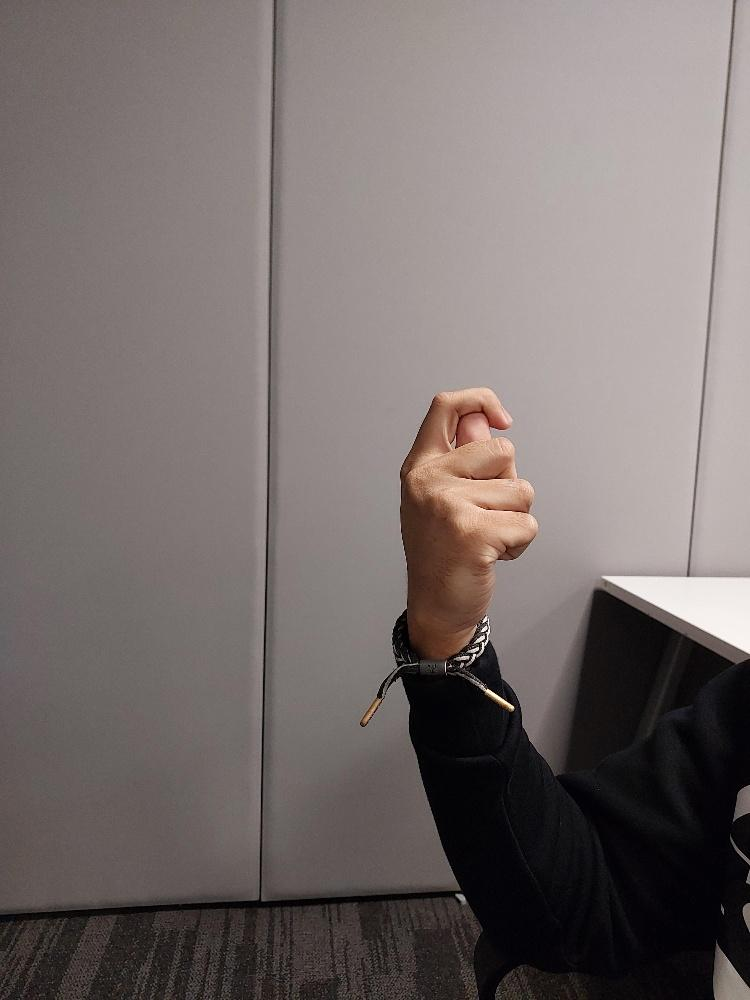t: (395, 383, 538, 664)
